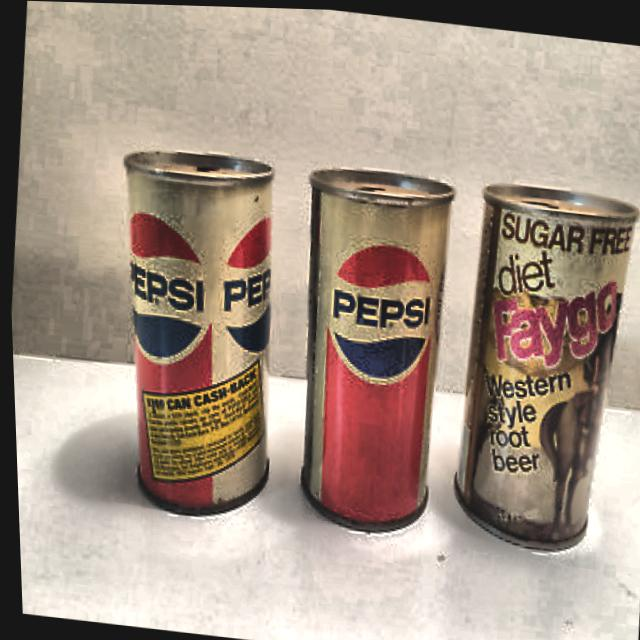Cans: (101, 134, 295, 530), (438, 183, 640, 562), (282, 156, 466, 550)
